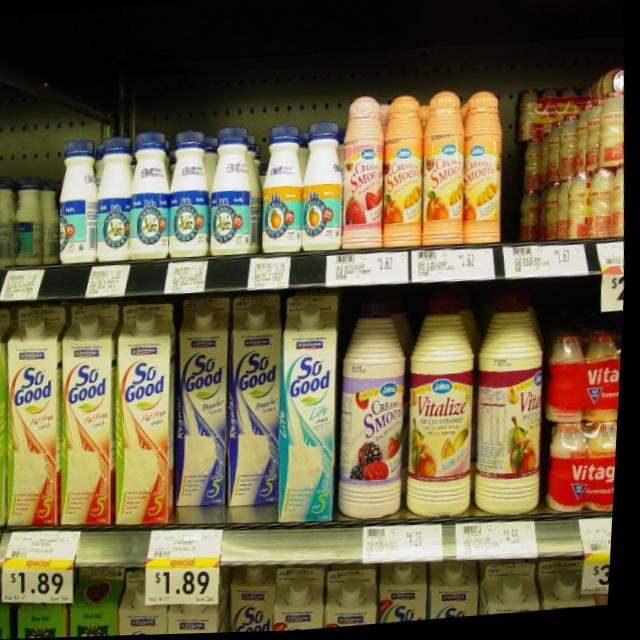q262: (275, 312, 353, 540)
